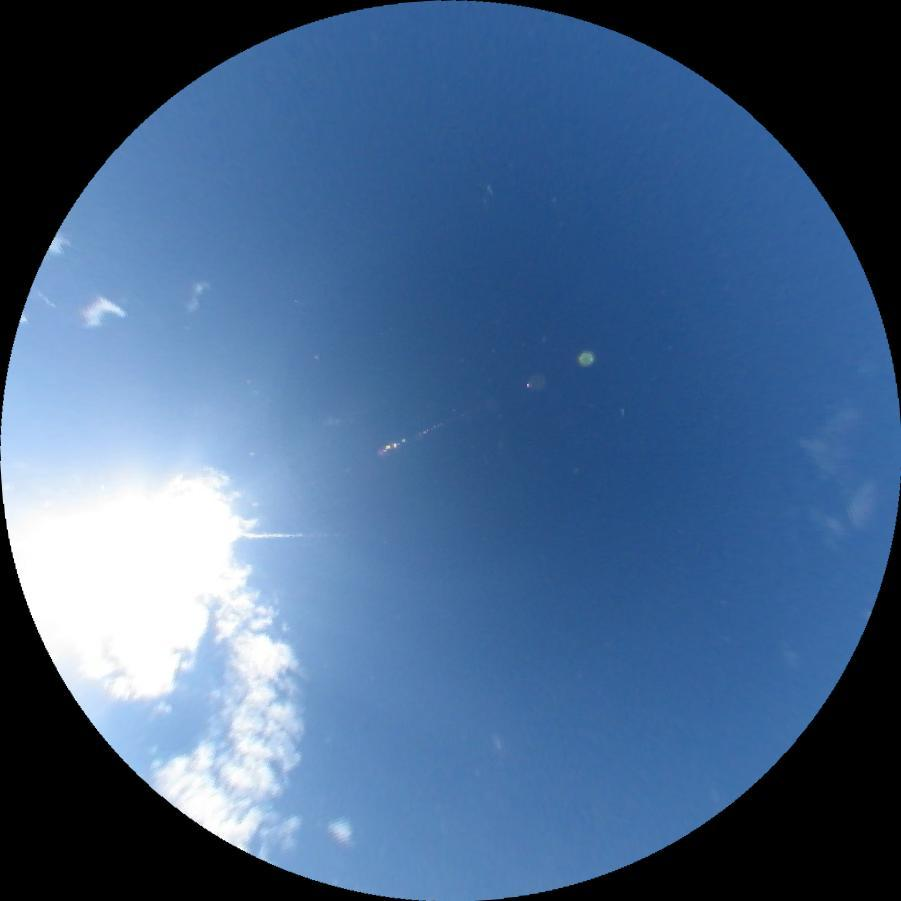contrail young: (29, 283, 57, 311)
sun: (6, 471, 240, 649)
unknow: (239, 529, 340, 541)
